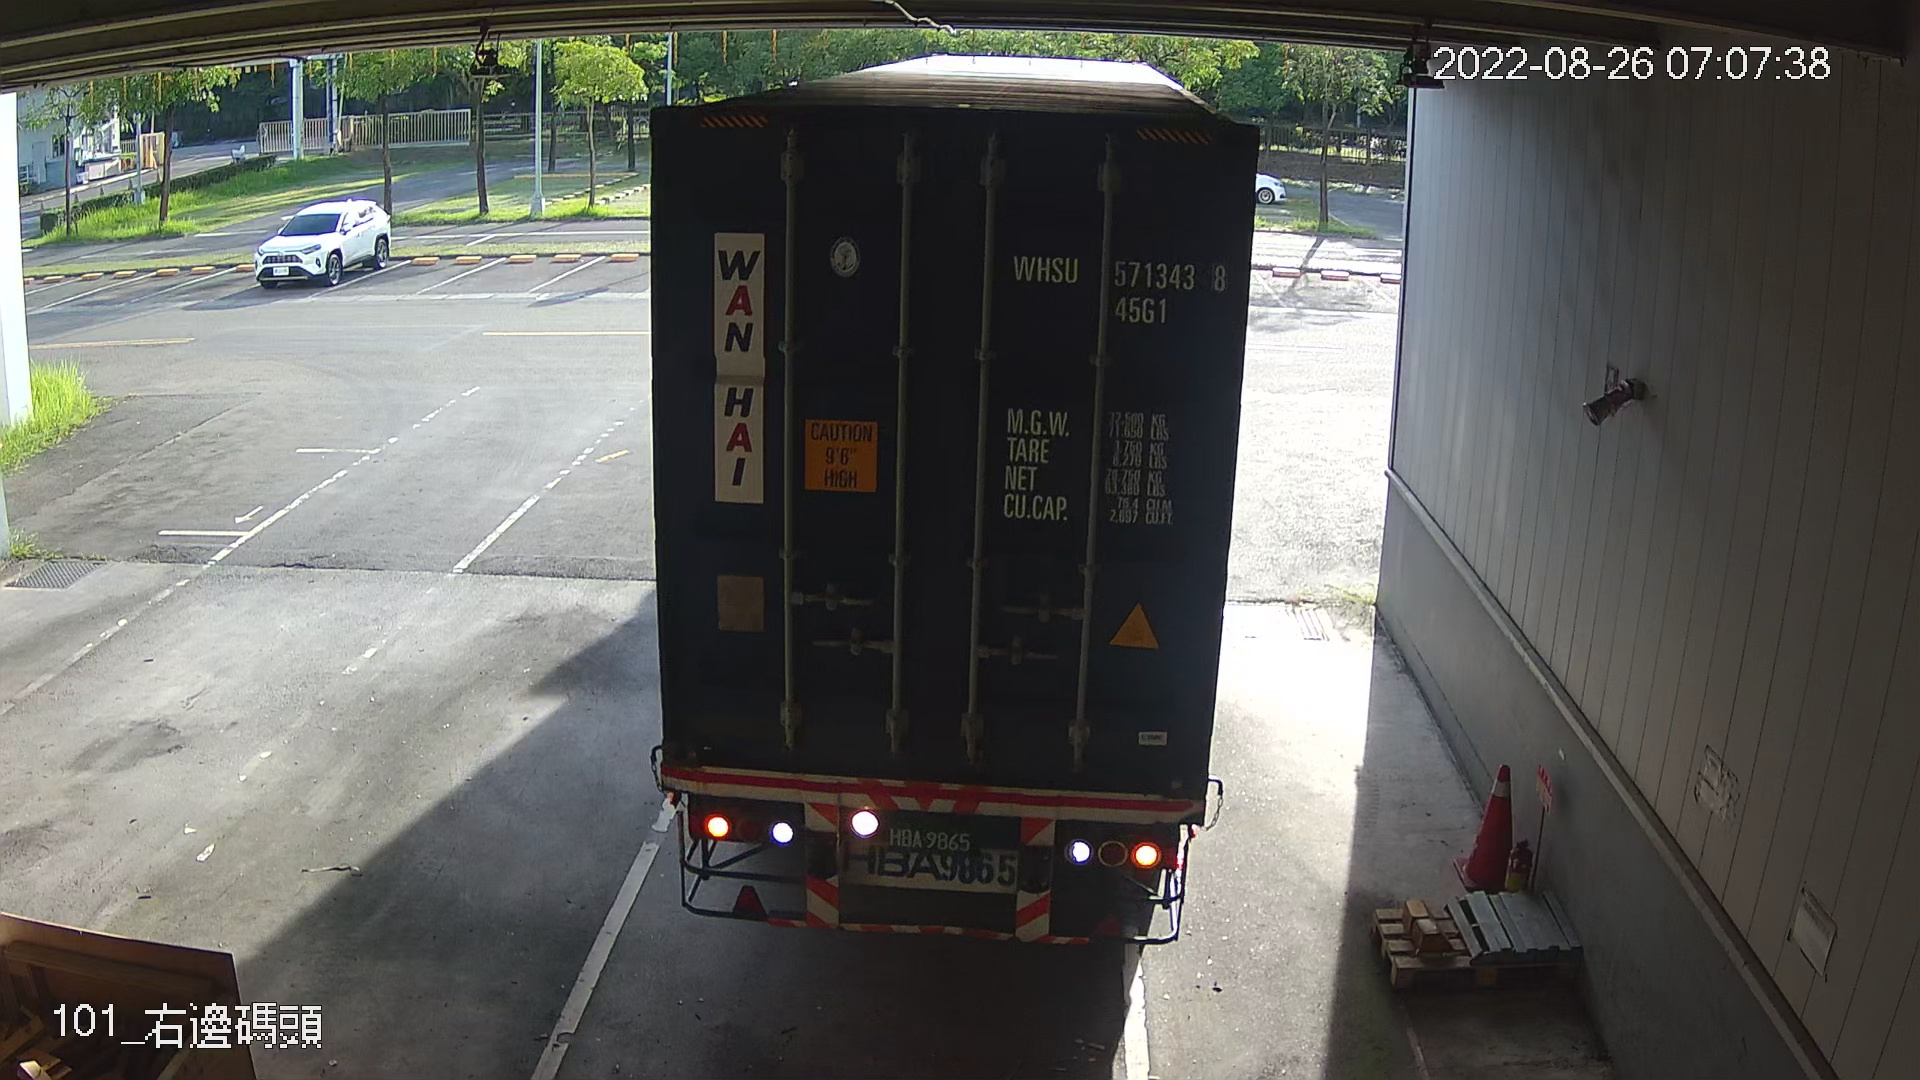container: (996, 243, 1232, 335)
